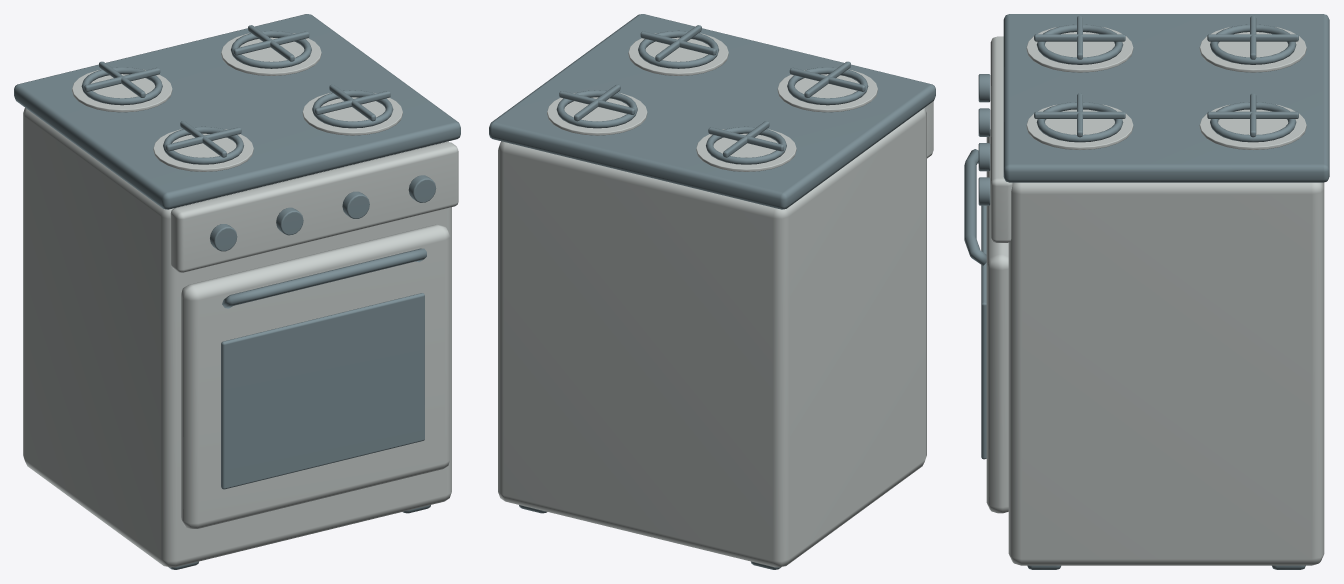
Rendered from stove.glb.
3 views of the same model, side by side, from view 1: azimuth 30°, elevation 25°; view 2: azimuth 150°, elevation 25°; view 3: azimuth 270°, elevation 25° (orthographic). The views are drawn at different scales.
Visible parts, largest first — view 1: oven_cabinet, cooktop, oven_door, oven_window, control_fascia, oven_handle, burner.001, burner.002, burner.003, burner, burner_ring, burner_ring.001 (+10 smaller); view 2: oven_cabinet, cooktop, burner, burner.002, burner.003, burner.001, burner_ring, burner_ring.001, burner_ring.002, burner_ring.003, burner_grate.003, burner_grate.007 (+2 smaller); view 3: oven_cabinet, cooktop, oven_door, control_fascia, burner, burner.001, burner.002, burner.003, oven_handle, oven_window, burner_ring, burner_ring.001 (+6 smaller).
Part boxes in pixels (box(x1,y1,x2,y2)): oven_cabinet: box(23, 108, 451, 567); cooktop: box(14, 14, 460, 209); oven_door: box(181, 224, 450, 528); oven_window: box(221, 293, 424, 489); control_fascia: box(170, 142, 458, 272); oven_handle: box(222, 248, 426, 308); burner.001: box(153, 129, 253, 171); burner.002: box(221, 33, 321, 75); burner.003: box(302, 92, 402, 135); burner: box(72, 69, 172, 112); burner_ring: box(81, 67, 162, 105); burner_ring.001: box(163, 126, 243, 164); oven_cabinet: box(498, 108, 926, 567); cooktop: box(489, 14, 935, 209); burner: box(696, 129, 796, 171); burner.002: box(547, 92, 647, 135); burner.003: box(628, 33, 728, 75); burner.001: box(777, 69, 877, 112); burner_ring: box(706, 126, 786, 164); burner_ring.001: box(787, 67, 868, 105); burner_ring.002: box(556, 90, 637, 128); burner_ring.003: box(638, 30, 718, 68); burner_grate.003: box(789, 67, 865, 91); burner_grate.007: box(640, 31, 716, 55); oven_cabinet: box(1008, 182, 1324, 565); cooktop: box(1003, 14, 1329, 182); oven_door: box(986, 129, 1008, 513); control_fascia: box(990, 36, 1012, 242); burner: box(1199, 27, 1306, 72); burner.001: box(1026, 27, 1133, 72); burner.002: box(1199, 104, 1306, 149); burner.003: box(1026, 104, 1133, 149); oven_handle: box(964, 149, 986, 265); oven_window: box(981, 205, 986, 459); burner_ring: box(1210, 24, 1296, 64); burner_ring.001: box(1036, 24, 1123, 64).
Bounding box in the file's own units: 0.72 × 0.934 × 0.7169.
